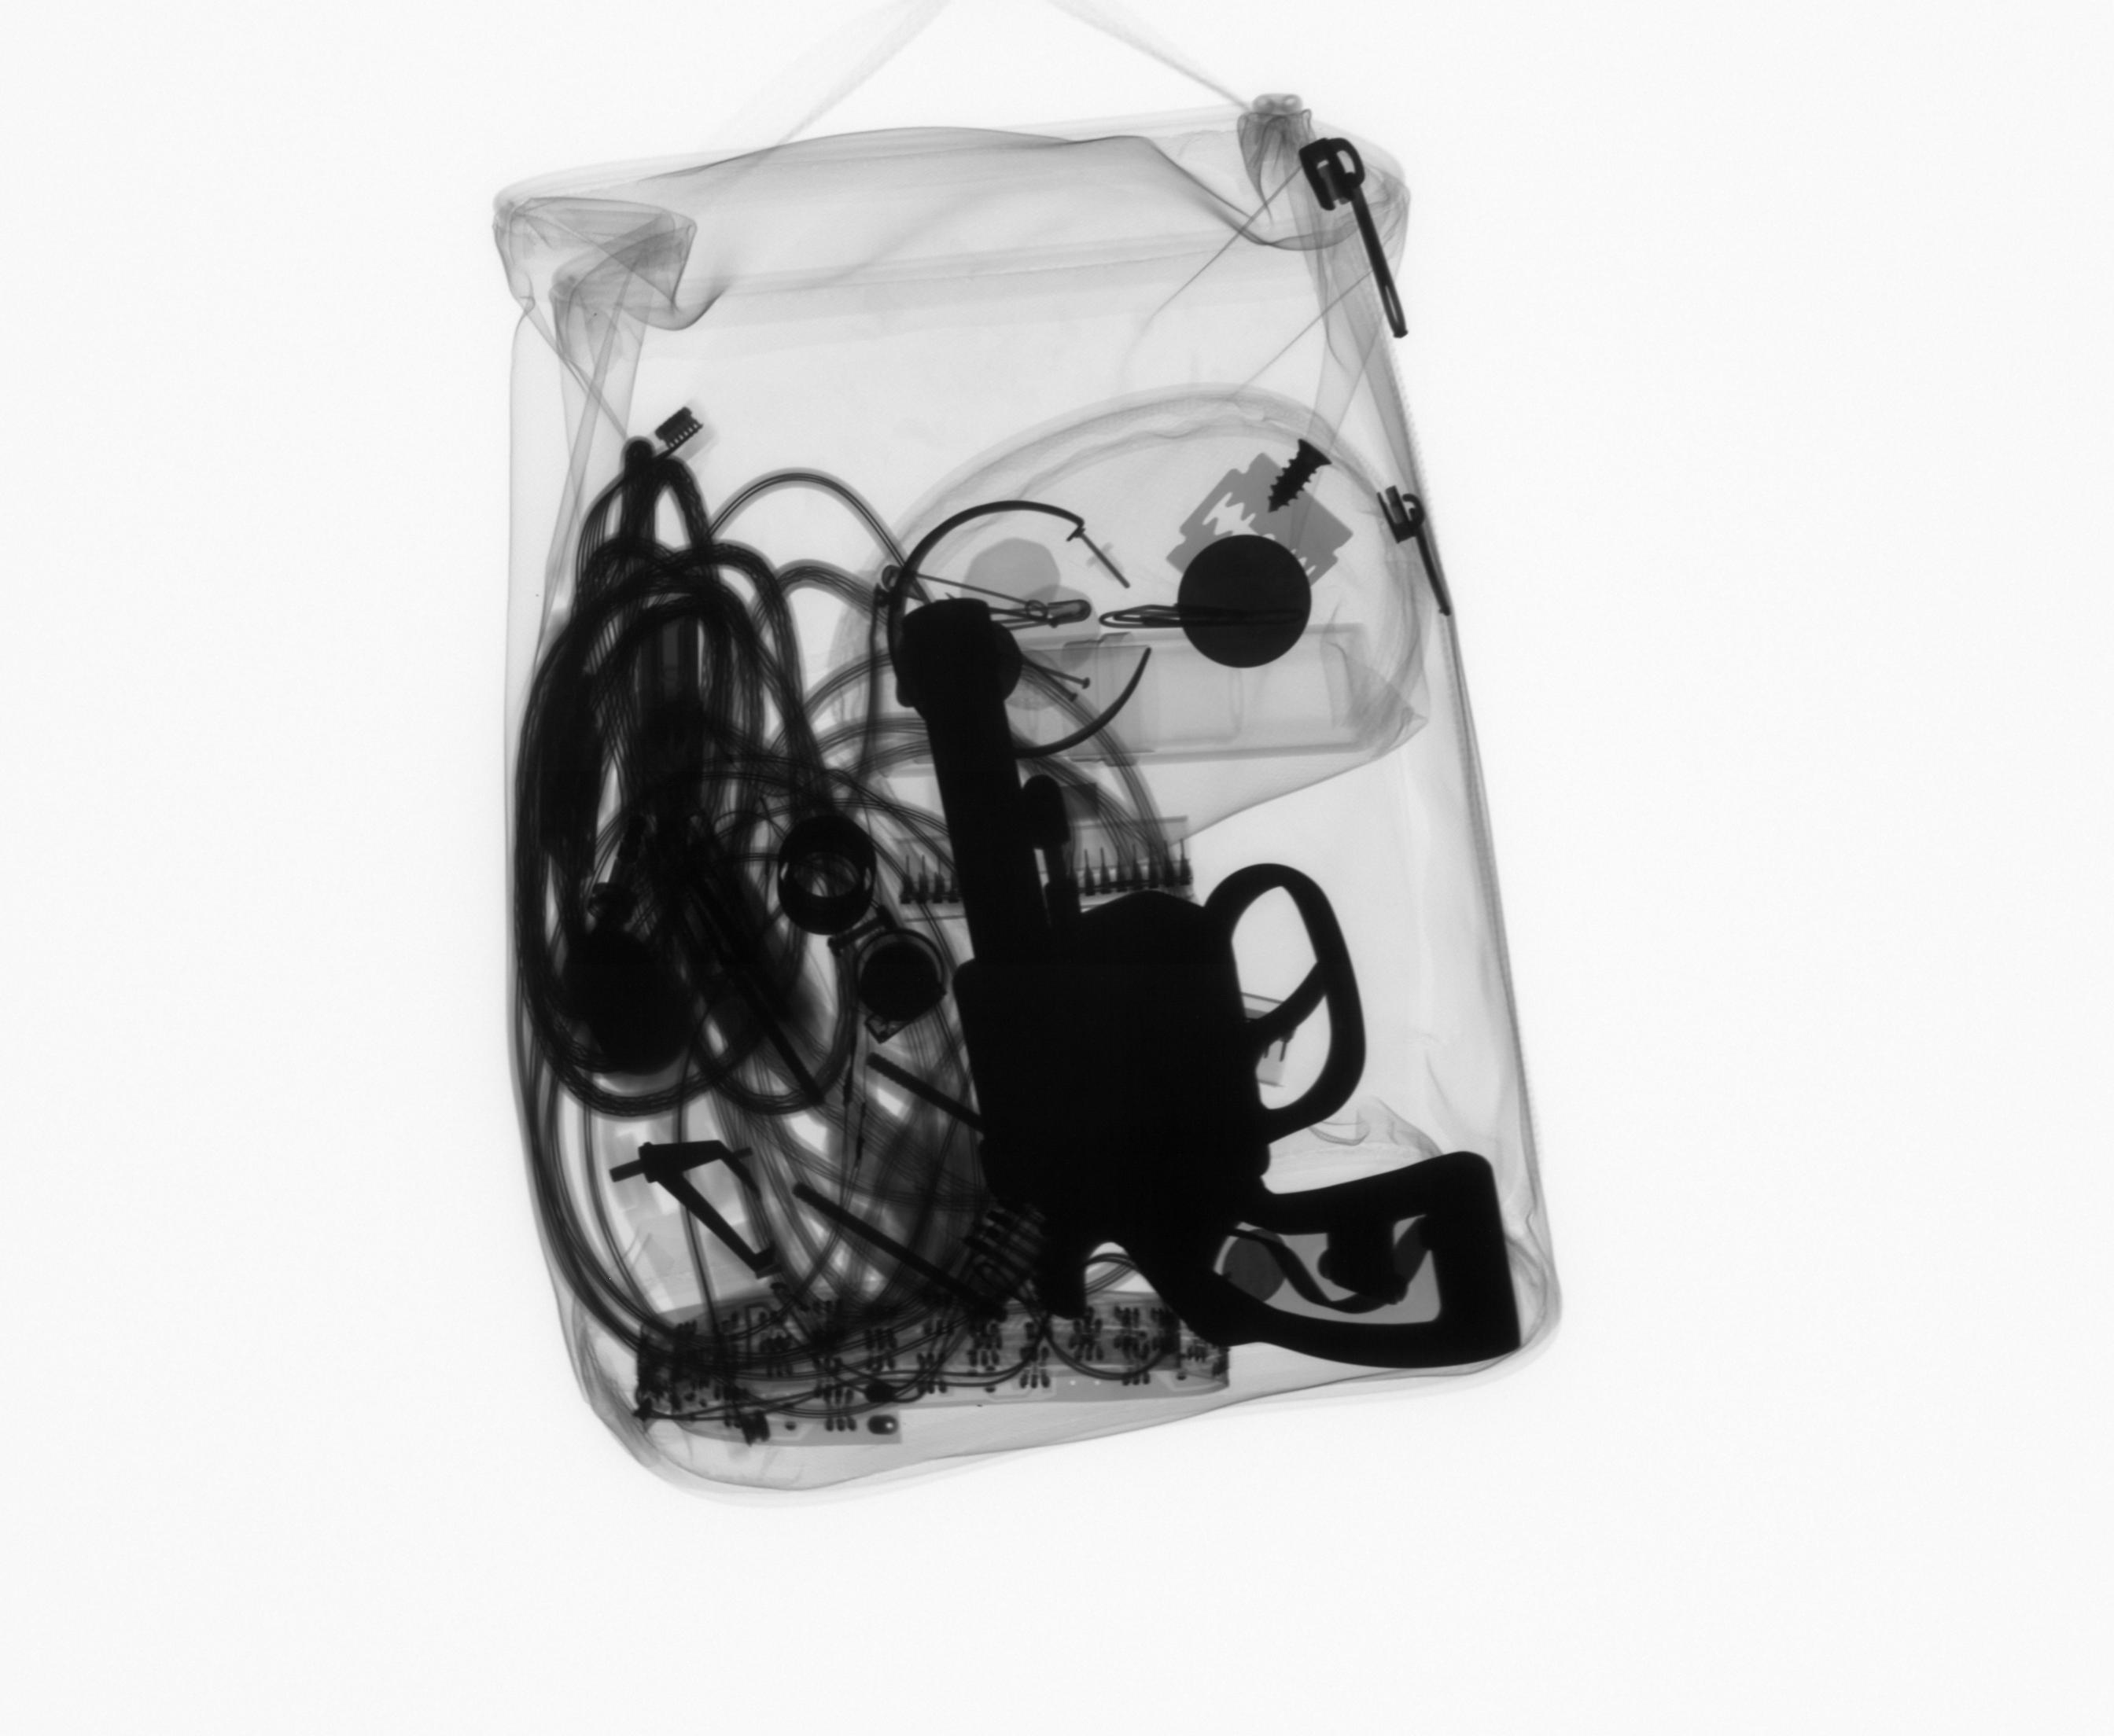Handgun: (883, 598, 1538, 1377)
RazorBlade: (1163, 442, 1357, 625)
